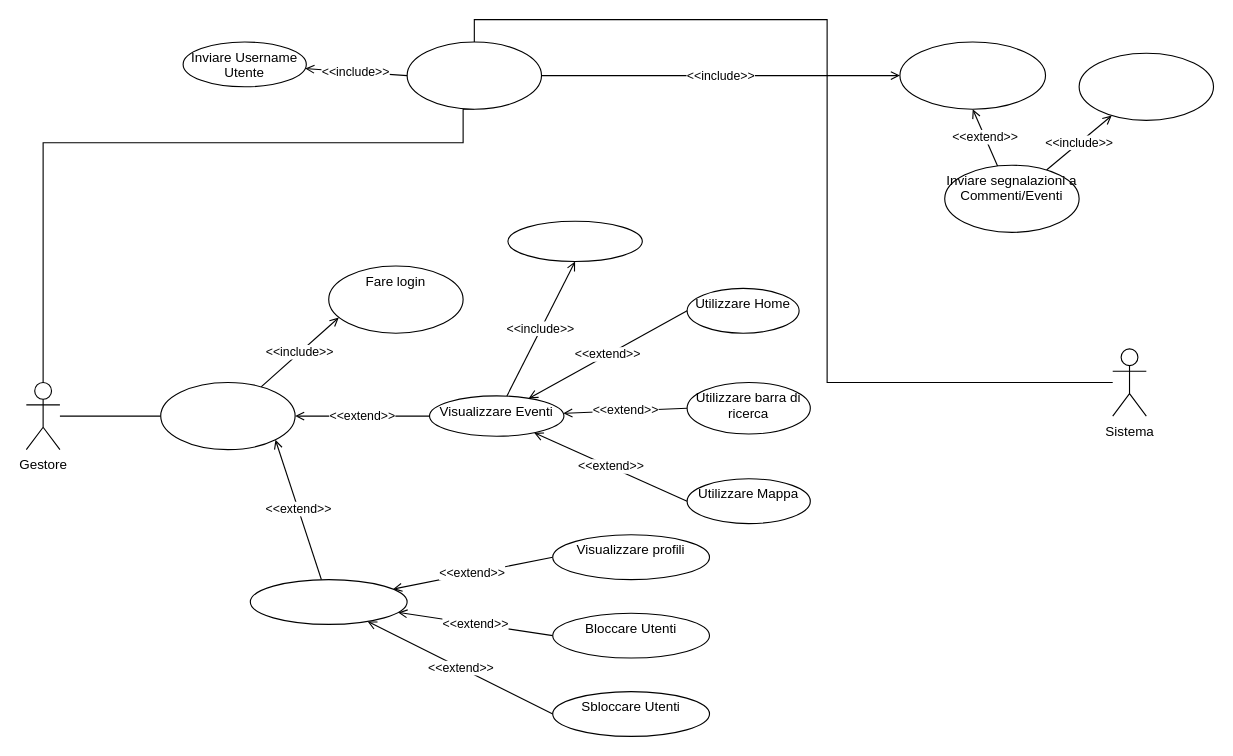
Image size: 1233x756. Some labels were removed from this diagram. Each missing label, with the centre of its shape:
"Interagire con Utenti" goes at [328,601].
"Inviare link di oggetti segnalati" goes at [1146,86].
"Inviare lista segnalazioni (anonime) con commenti" goes at [972,75].
"Non avere limitazioni dati da visibilità" goes at [574,241].
"Notificare se un Utente raggiunge 10 segnalazioni" goes at [474,75].
"Utilizzare strumento di gestione servizio" goes at [227,415].
